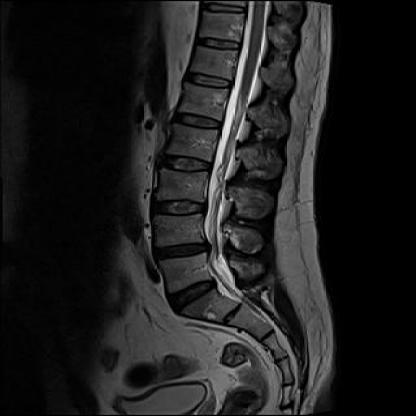Degenerative Disc Diseaserotation: (163, 274, 223, 311), (148, 239, 217, 265)
Disc Bulgerotation: (147, 239, 217, 266)
Disc Relaxationrotation: (145, 194, 212, 224)
